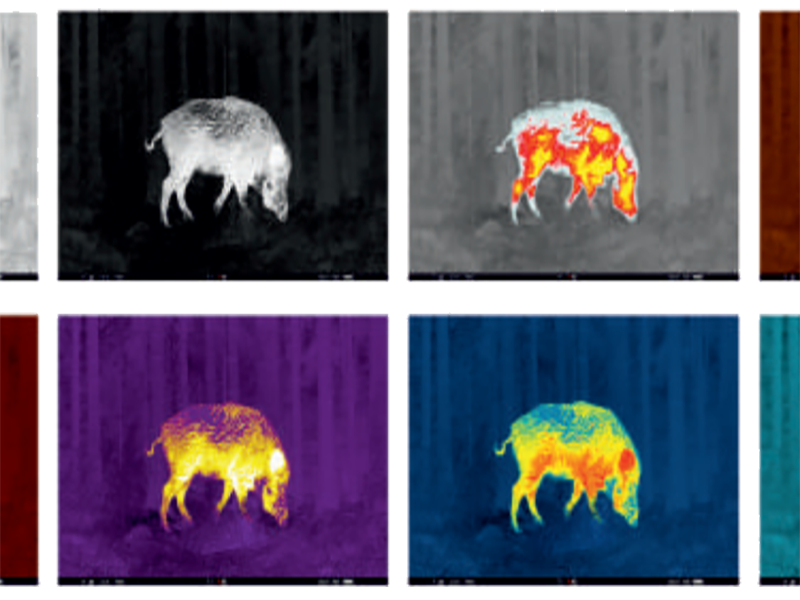cane da caccia: (484, 399, 653, 540), (142, 99, 300, 227), (142, 403, 298, 525), (501, 93, 640, 225)
